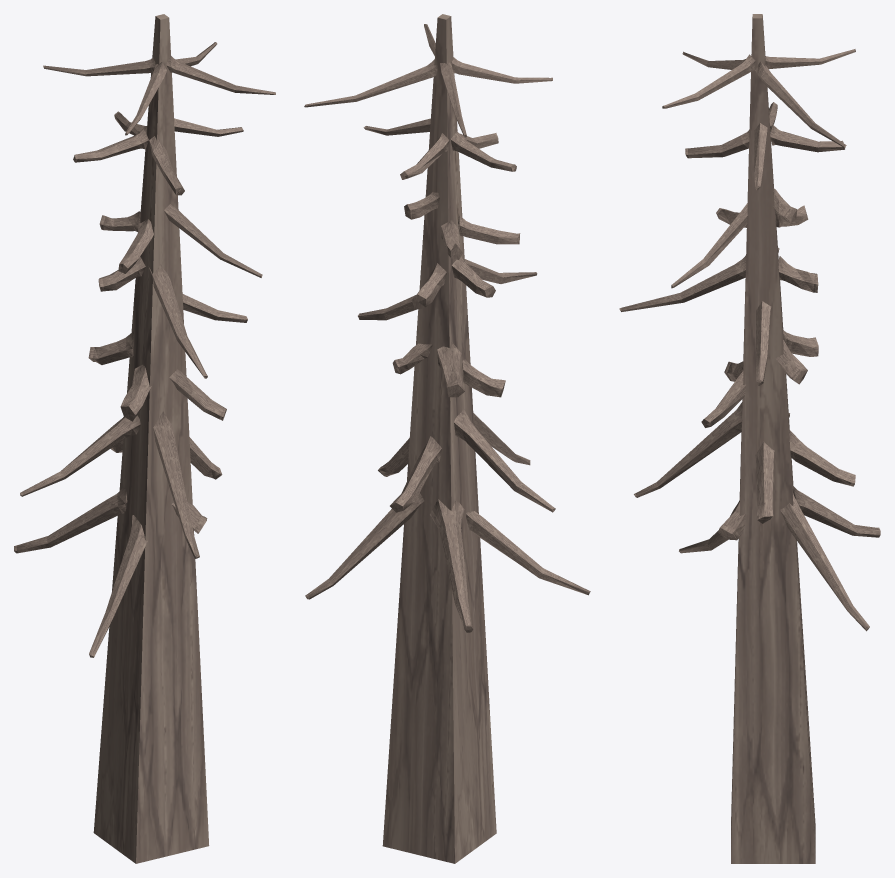
File: PineTreeDead01.fbx
3 renders of one model, left to right at view 1: azimuth 30°, elevation 25°; view 2: azimuth 150°, elevation 25°; view 3: azimuth 270°, elevation 25°, orthographic.
Visible parts, largest first — view 1: PineTreeDead01_LOD0; view 2: PineTreeDead01_LOD0; view 3: PineTreeDead01_LOD0.
Boxes of the visible parts, left/top/right/bottom form: PineTreeDead01_LOD0: left=14, top=14, right=275, bottom=863; PineTreeDead01_LOD0: left=304, top=14, right=590, bottom=863; PineTreeDead01_LOD0: left=619, top=14, right=880, bottom=863.
Size of what is drawn, in the model's own units: 228 by 797 by 227.
Materials: 1 (1 with a texture image).
